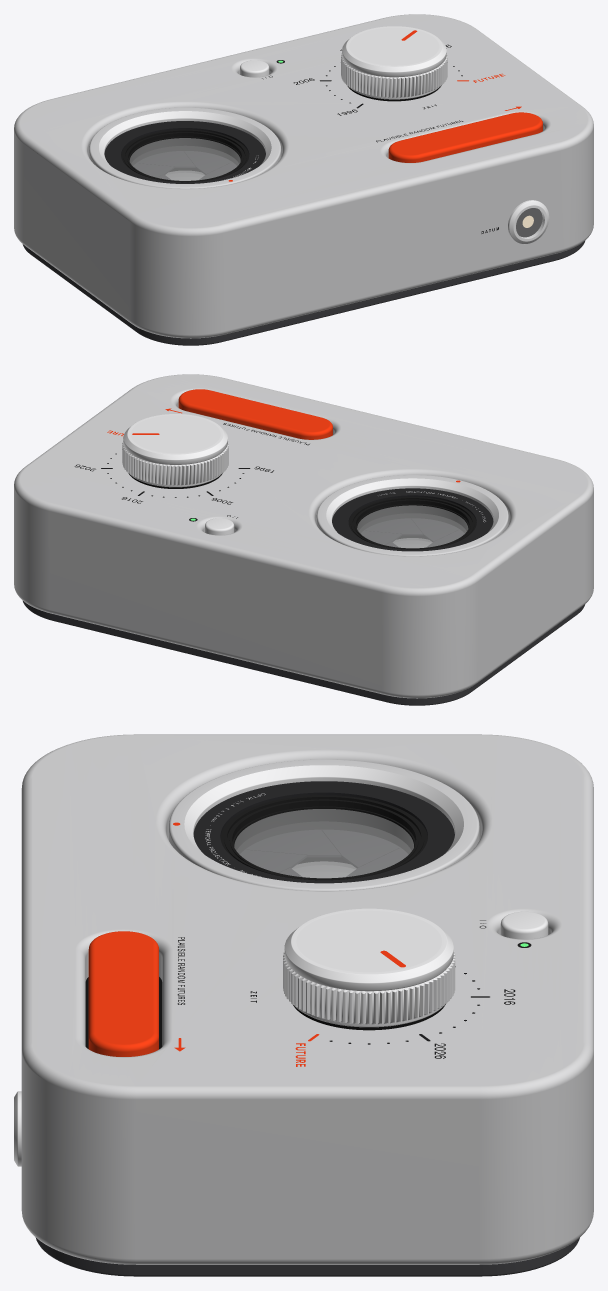
File: zeitlinse.glb
3 views of the same model, one above another, from view 1: azimuth 30°, elevation 25°; view 2: azimuth 150°, elevation 25°; view 3: azimuth 270°, elevation 25° (orthographic). The views are drawn at different scales.
Visible parts, largest first — view 1: body, dial, prf_key, power_button; view 2: body, dial, prf_key, power_button; view 3: body, dial, prf_key, power_button.
Boxes of the visible parts, x1,y1,x2,y2 form: body: (14, 14, 593, 345); dial: (341, 26, 447, 99); prf_key: (388, 112, 542, 162); power_button: (240, 60, 269, 77); body: (14, 374, 593, 705); dial: (122, 414, 228, 487); prf_key: (178, 389, 332, 439); power_button: (205, 518, 234, 535); body: (14, 734, 593, 1276); dial: (283, 908, 455, 1027); prf_key: (88, 931, 158, 1056); power_button: (500, 911, 548, 939).
Size of the model in its own units: 0.104 by 0.0335 by 0.071.
